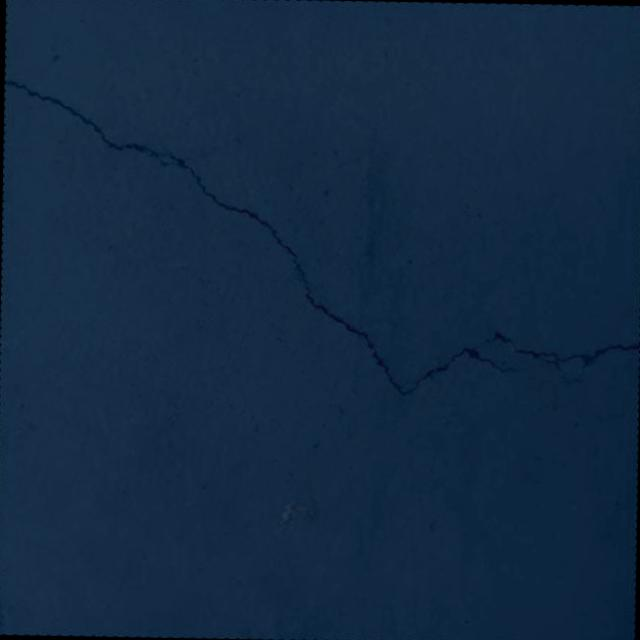crack: (0, 79, 531, 398), (513, 341, 640, 386)
